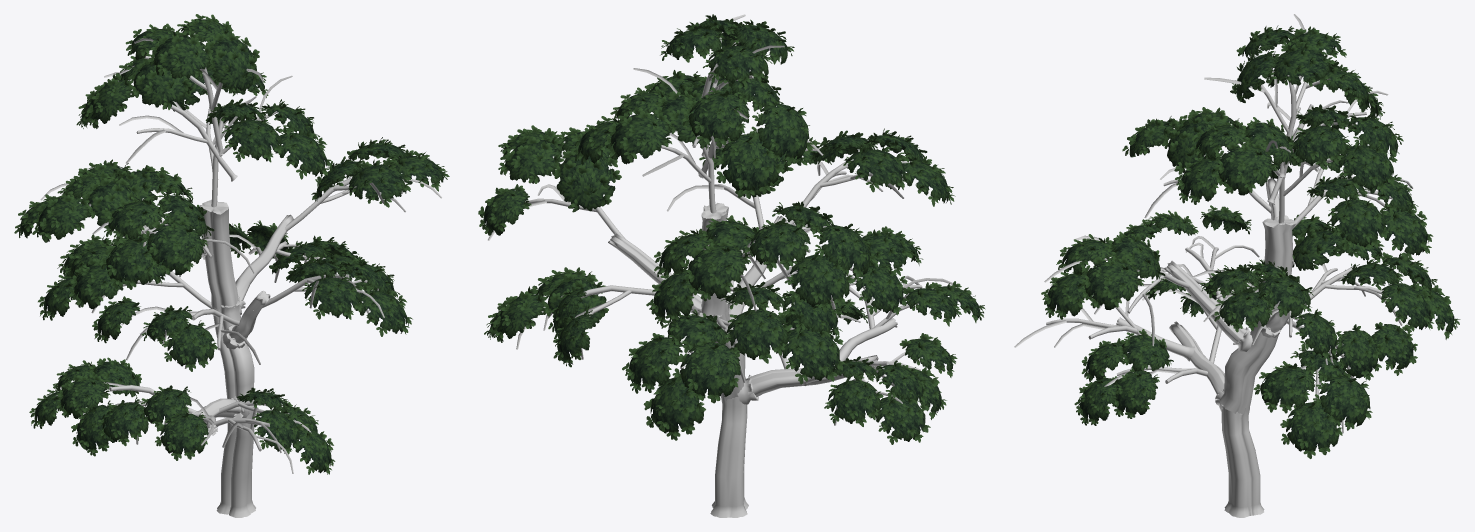
The model's file is TreeFull.fbx.
3 views of the same model, side by side, from view 1: azimuth 30°, elevation 25°; view 2: azimuth 150°, elevation 25°; view 3: azimuth 270°, elevation 25° (orthographic). The views are drawn at different scales.
Visible parts, largest first — view 1: pCylinder119; view 2: pCylinder119; view 3: pCylinder119.
Part boxes in pixels (x1,y1,x2,y2): pCylinder119: [14, 14, 449, 517]; pCylinder119: [478, 14, 985, 517]; pCylinder119: [1014, 14, 1460, 517].
Bounding box in the file's own units: 190 × 213 × 186.
